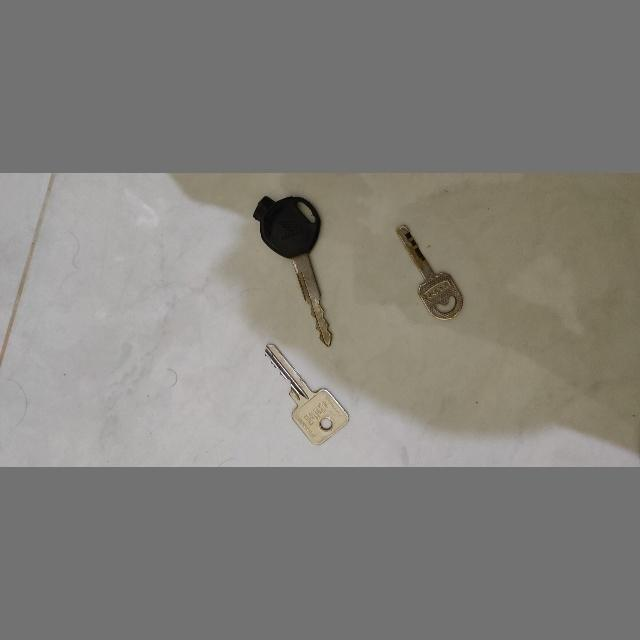Keys: (250, 193, 336, 347), (264, 341, 352, 447), (396, 223, 464, 325)
